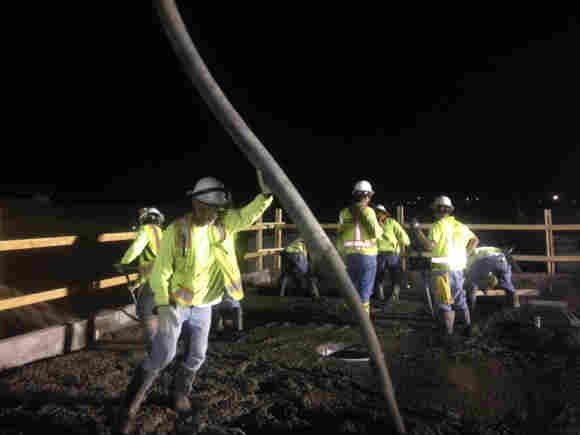white: (190, 175, 228, 222), (431, 194, 456, 217), (352, 177, 373, 204), (140, 206, 162, 227)
